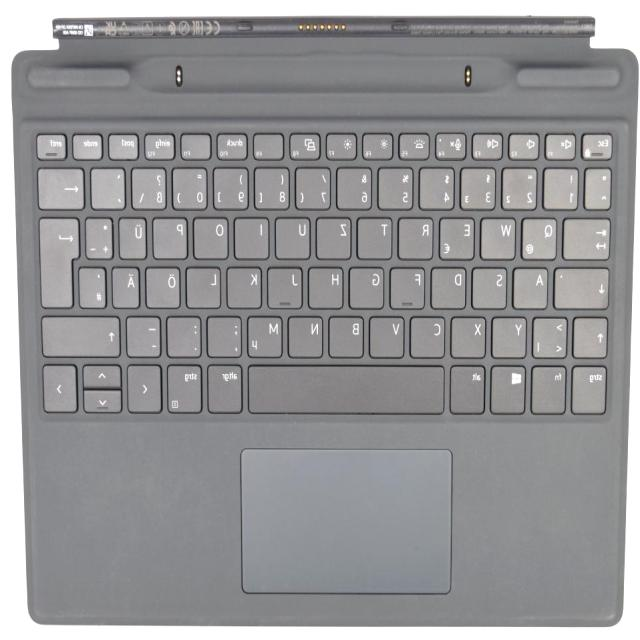0: (174, 164, 210, 208)
1: (545, 164, 581, 208)
2: (503, 164, 541, 208)
3: (461, 164, 499, 208)
4: (421, 164, 457, 208)
5: (379, 164, 417, 208)
6: (337, 164, 375, 208)
7: (297, 164, 333, 208)
8: (256, 164, 292, 208)
9: (215, 164, 251, 208)
a: (514, 264, 550, 308)
accent: (92, 165, 128, 208)
ae: (114, 263, 142, 306)
alt-left: (451, 362, 489, 413)
altgr-right: (209, 361, 245, 411)
b: (331, 313, 367, 356)
c: (411, 313, 447, 357)
caret: (586, 164, 614, 208)
comma: (209, 313, 245, 356)
d: (433, 264, 469, 308)
del: (38, 164, 87, 208)
e: (441, 215, 477, 259)
enter: (41, 214, 83, 307)
f: (391, 264, 427, 308)
g: (351, 264, 387, 308)
h: (310, 264, 346, 307)
hash: (81, 263, 109, 306)
i: (236, 214, 272, 258)
j: (269, 263, 305, 307)
k: (228, 263, 264, 307)
keyboard: (22, 115, 630, 429)
l: (187, 263, 223, 307)
less: (533, 313, 571, 357)
m: (249, 312, 285, 356)
minus: (128, 313, 164, 356)
n: (290, 313, 326, 357)
o: (195, 214, 231, 258)
oe: (147, 264, 183, 307)
p: (154, 214, 190, 258)
plus: (87, 214, 117, 258)
point: (168, 313, 204, 356)
q: (522, 215, 560, 259)
r: (399, 215, 437, 259)
s: (474, 264, 510, 308)
shift-left: (575, 313, 611, 357)
shift-lock: (555, 264, 611, 308)
shift-right: (43, 311, 123, 355)
space: (251, 361, 447, 413)
ss: (134, 164, 170, 208)
strg-left: (574, 362, 610, 413)
strg-right: (169, 361, 205, 412)
t: (358, 214, 394, 258)
tab: (565, 214, 613, 258)
u: (277, 214, 313, 258)
ue: (121, 214, 149, 258)
v: (370, 313, 406, 357)
w: (482, 215, 518, 259)
x: (452, 313, 488, 357)
y: (493, 313, 529, 357)
z: (317, 214, 353, 258)
